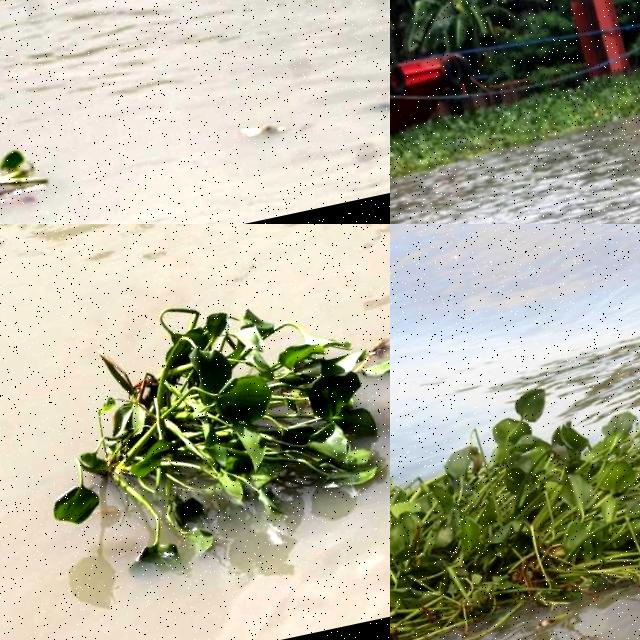water-hyacinth: (21, 264, 391, 591), (391, 328, 640, 640), (391, 1, 640, 181), (1, 101, 94, 225)
